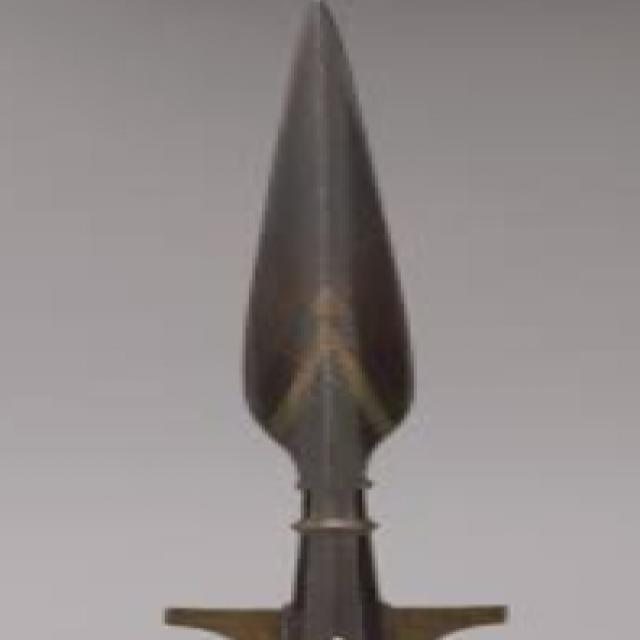spear: (104, 0, 544, 638)
